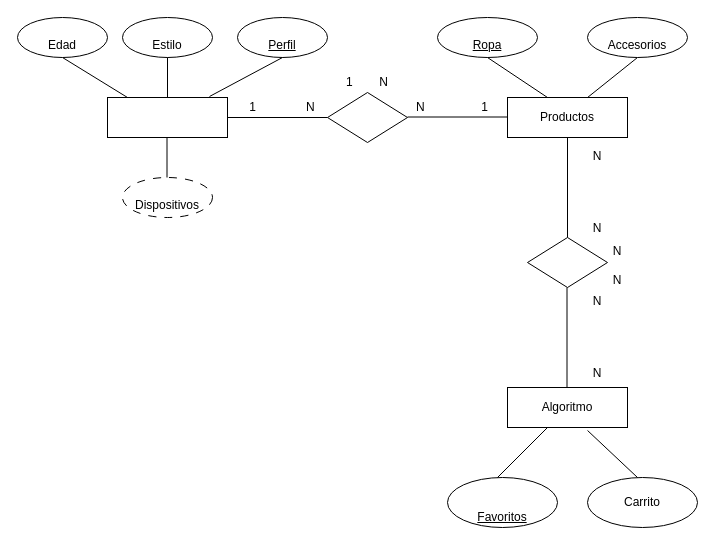
This 715x545 diagram has some shape labels left out. The shapes that lost their labels are listed below. From the top down, each one's centre as x and y in pixels, then its label:
(167,117): Usuario
(367,117): Compra
(567,262): Segun
